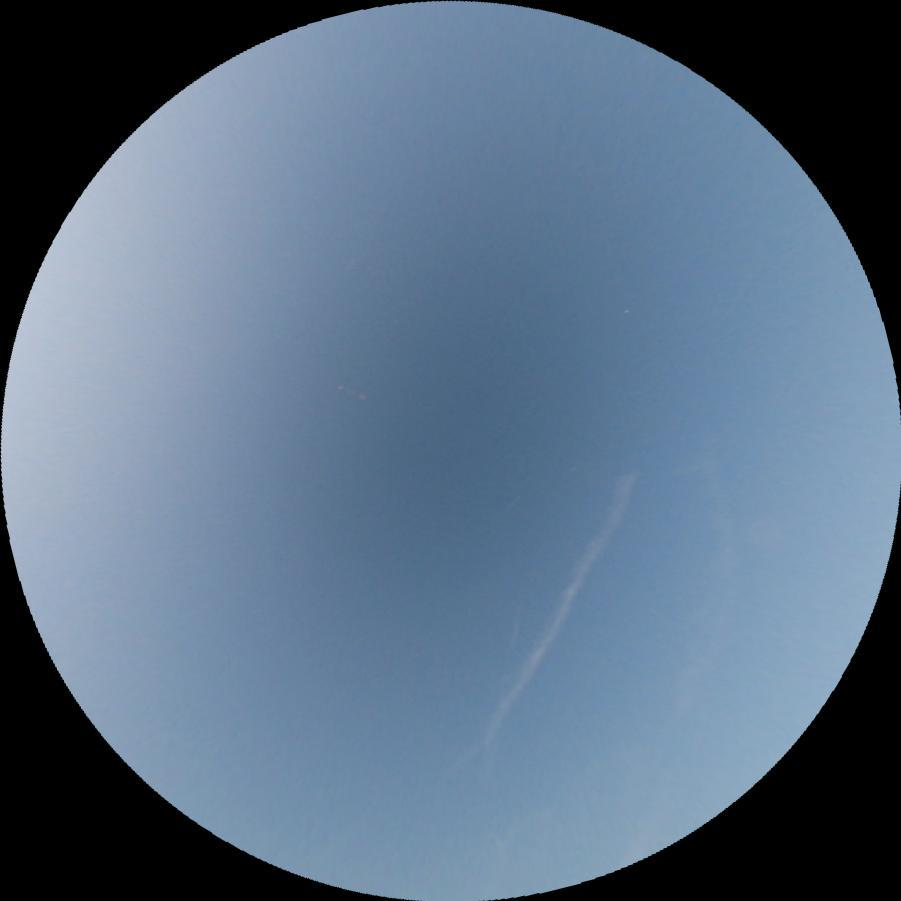contrail young: (500, 493, 521, 514), (342, 260, 356, 275)
